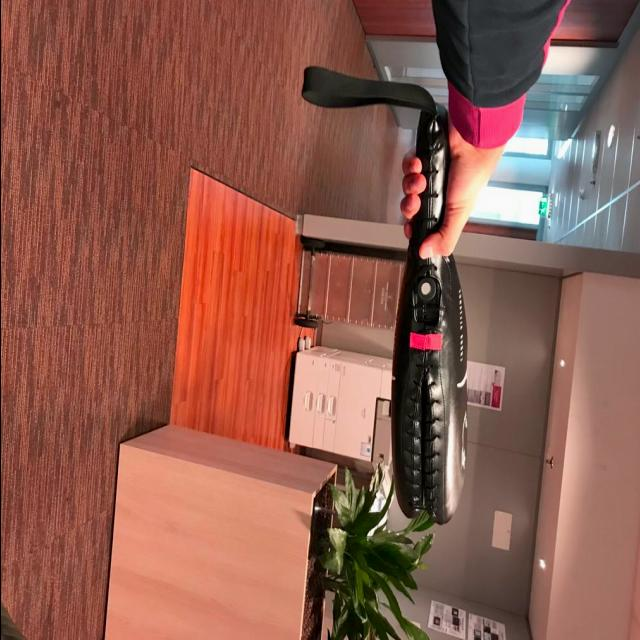paddle: (389, 106, 474, 530)
